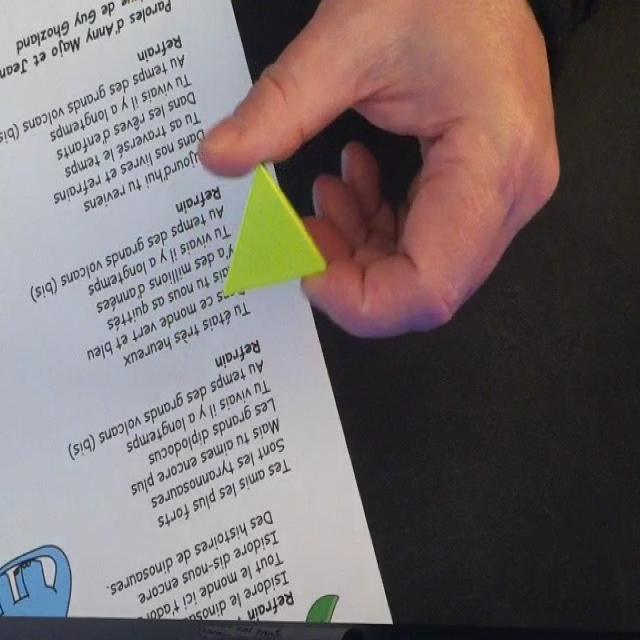triangle: (222, 161, 327, 303)
